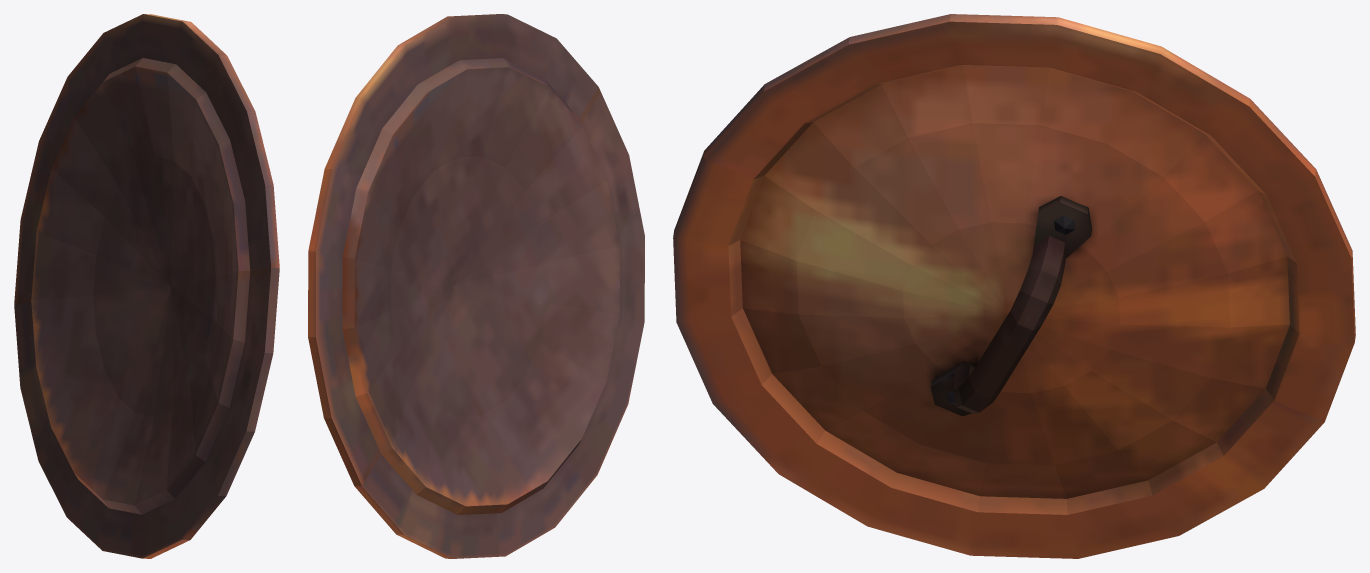
File: PotLidAnchor.fbx
3 renders of one model, left to right at view 1: azimuth 30°, elevation 25°; view 2: azimuth 150°, elevation 25°; view 3: azimuth 270°, elevation 25°, orthographic. The views are drawn at different scales.
Visible parts, largest first — view 1: LMAED_; view 2: LMAED_; view 3: LMAED_.
Boxes of the visible parts, x1,y1,x2,y2 form: LMAED_: (14,14,279,558); LMAED_: (308,14,644,558); LMAED_: (673,14,1355,558).
Bounding box in the file's own units: 15.32 × 46.3 × 47.43.
